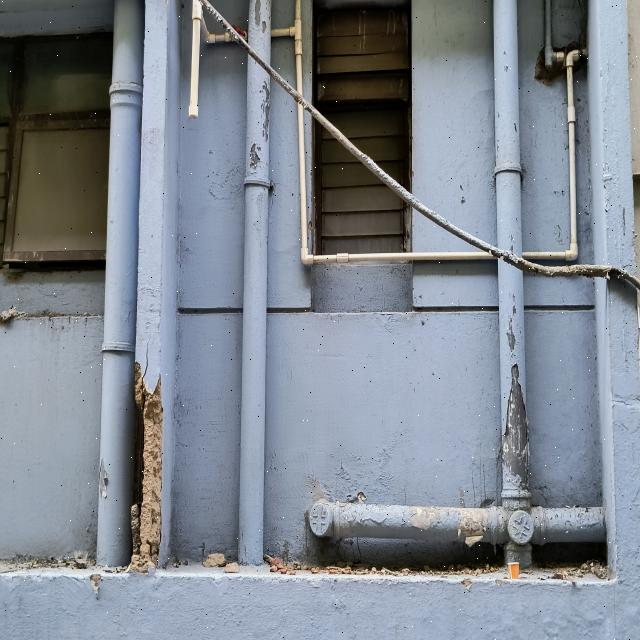peeling: (502, 364, 529, 489), (406, 507, 489, 546), (254, 0, 271, 35), (260, 83, 270, 142), (506, 305, 517, 354), (99, 459, 108, 498), (249, 143, 261, 170)
spalling: (129, 362, 163, 573)
